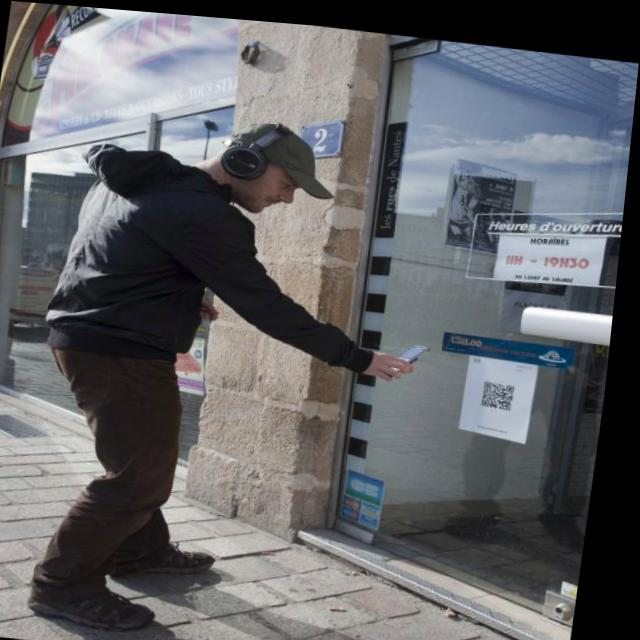qrcode: (490, 373, 523, 402)
